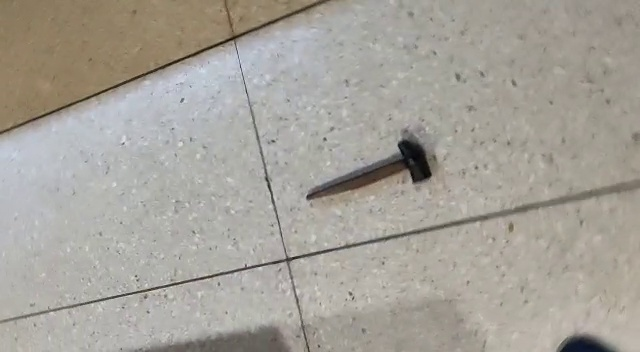hammer: (303, 137, 433, 205)
